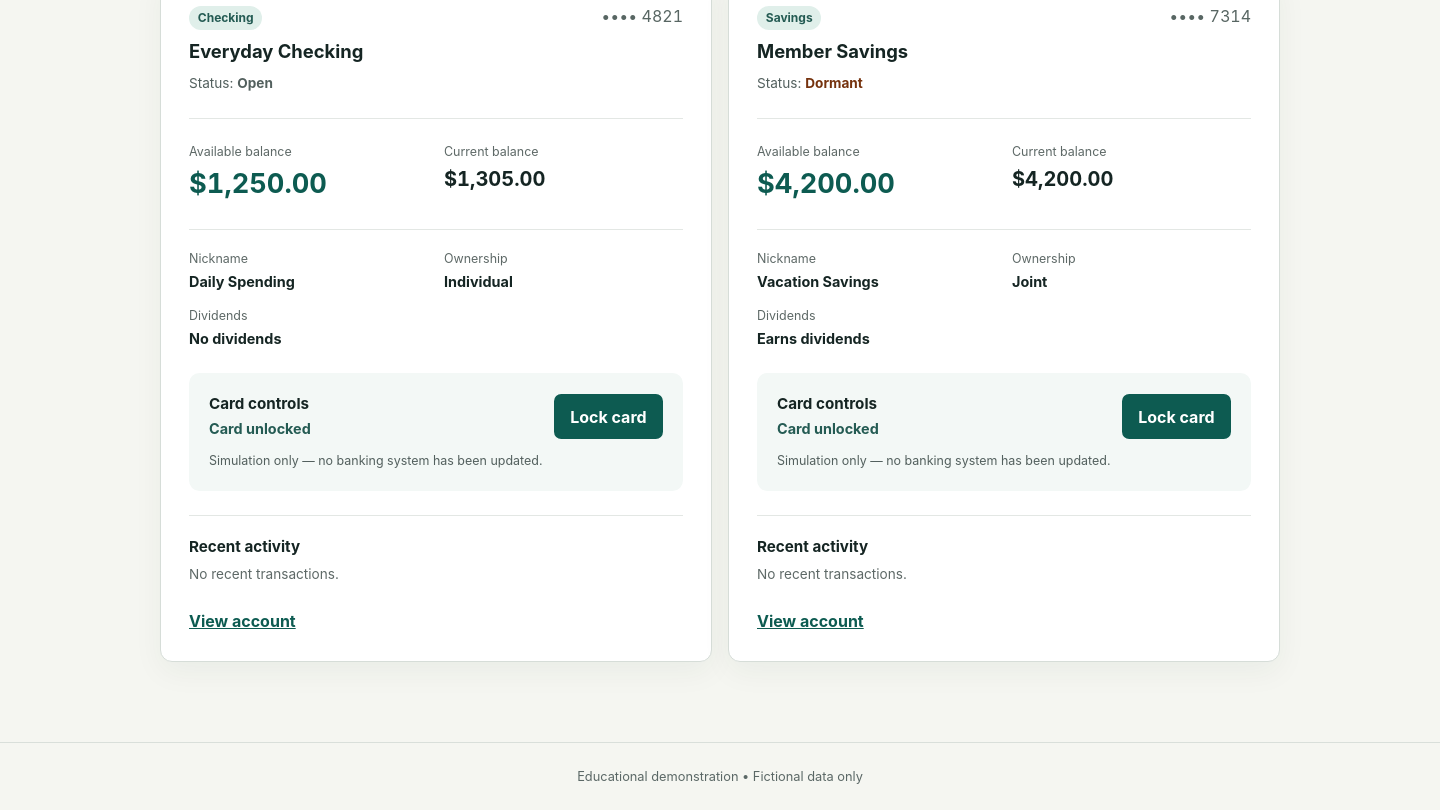
Test case: member application routes › selects an account from the route parameter and preserves loaded state
(page scrolled)
What coordinates should you click on to do the following:
click the link "View account" below "No dividends"
I would click on:
 (242, 620)
Its box is [189,608,296,632].
(page scrolled)
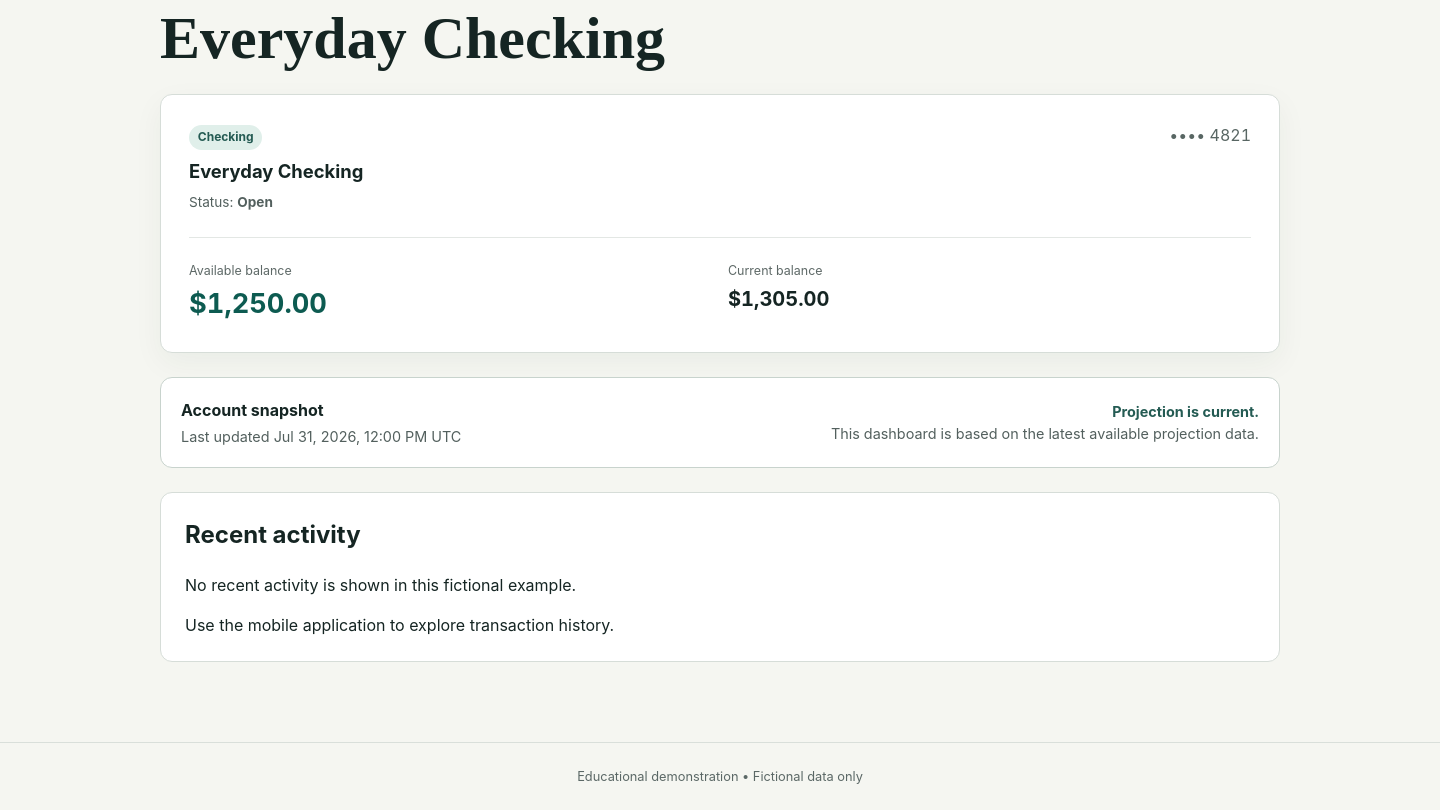
Expected: the text "•••• 4821" is shown, [1169,123,1251,147]
Expected: the 1st heading "Everyday Checking" is shown, [160,7,670,70]
